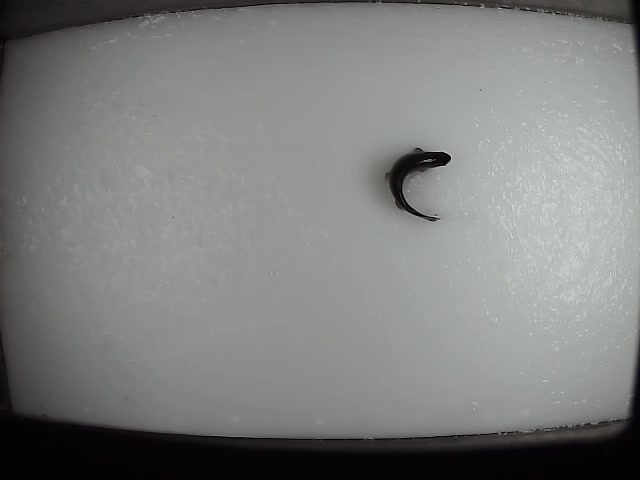Fish: (385, 149, 451, 222)
